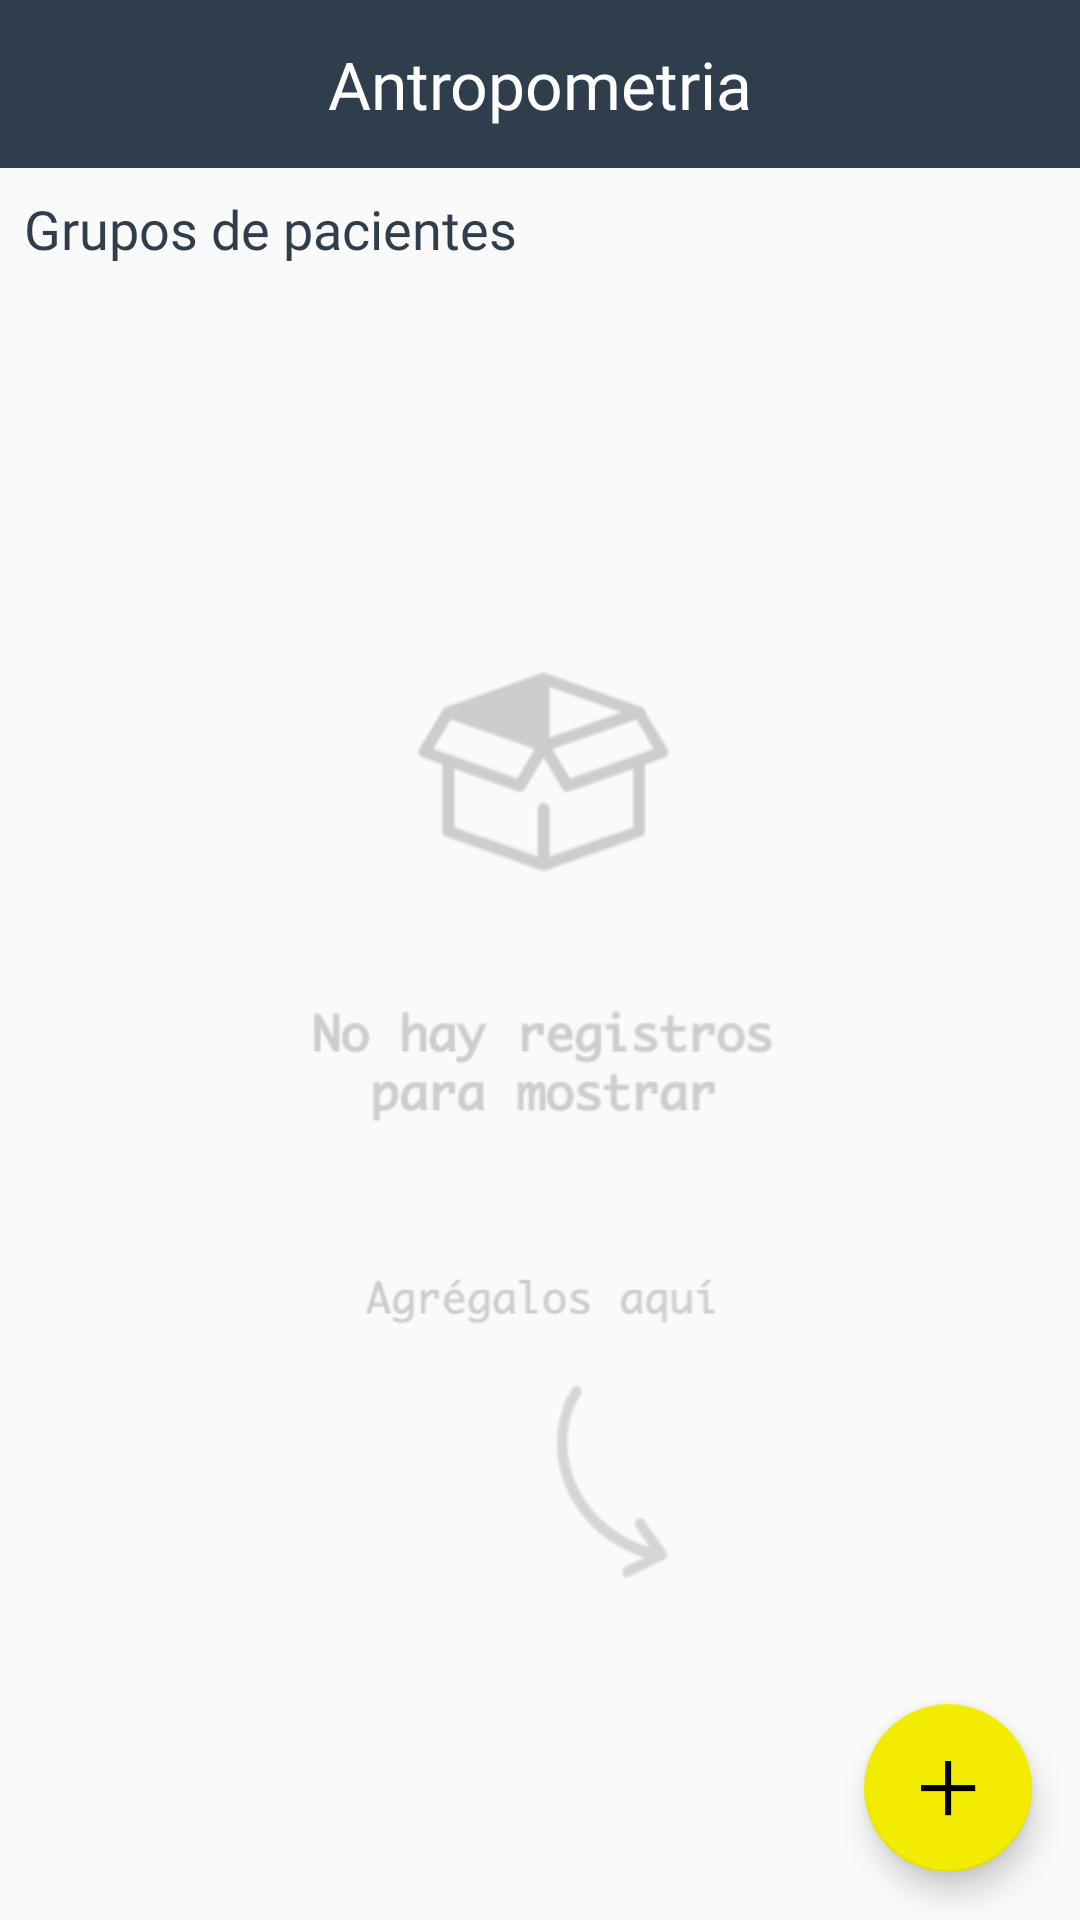

Point at icon controls on the screen. Image size 1080 × 1920, points as point (x, y).
aumentar: point (948, 1788)
